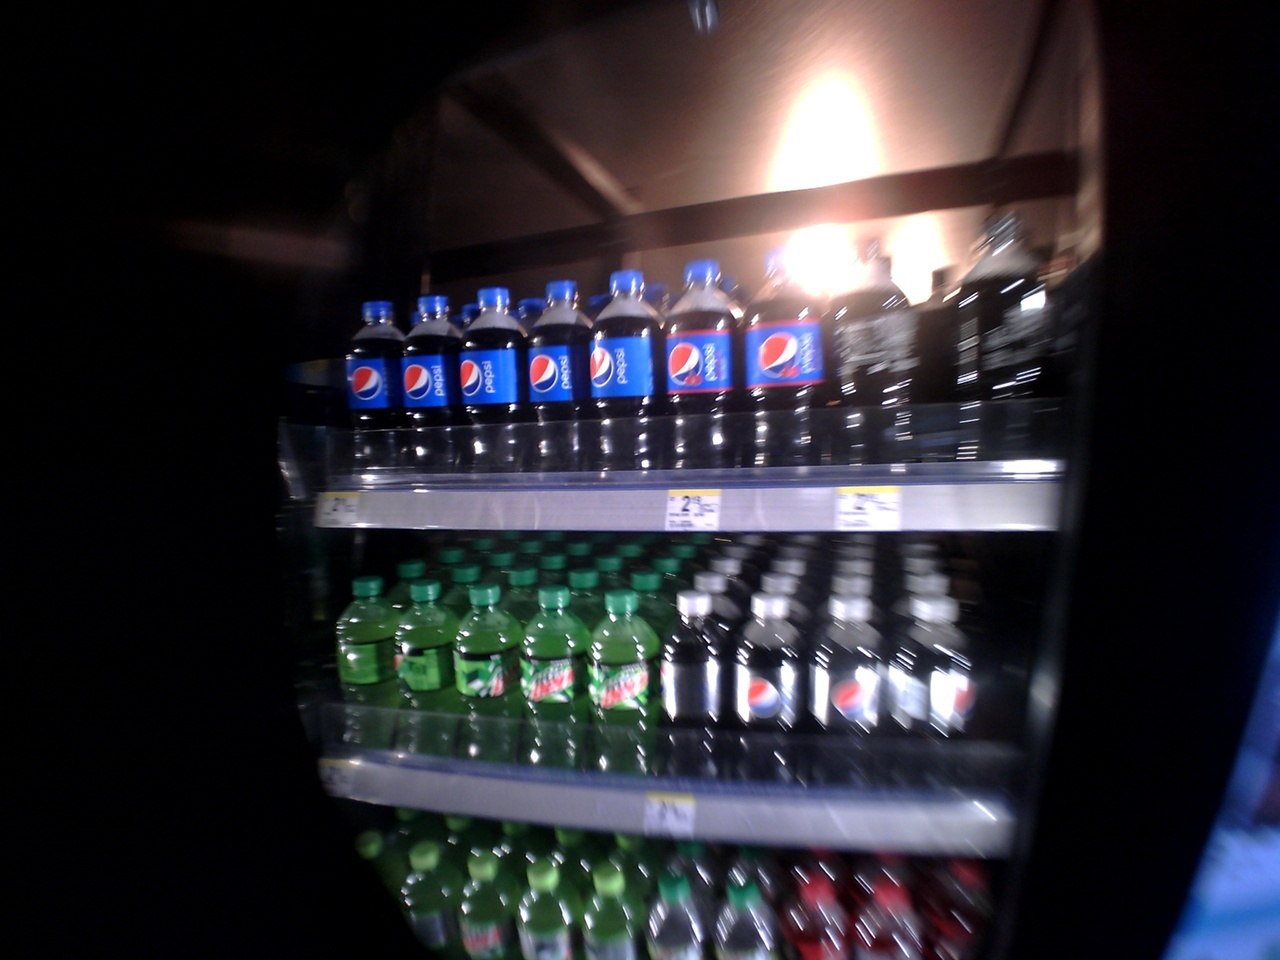shelf: (311, 234, 1063, 530), (307, 542, 1012, 844)
